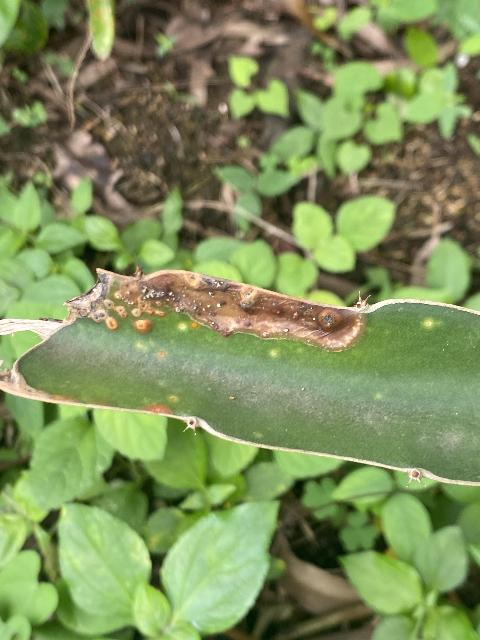stemcanker: (7, 265, 480, 490)
